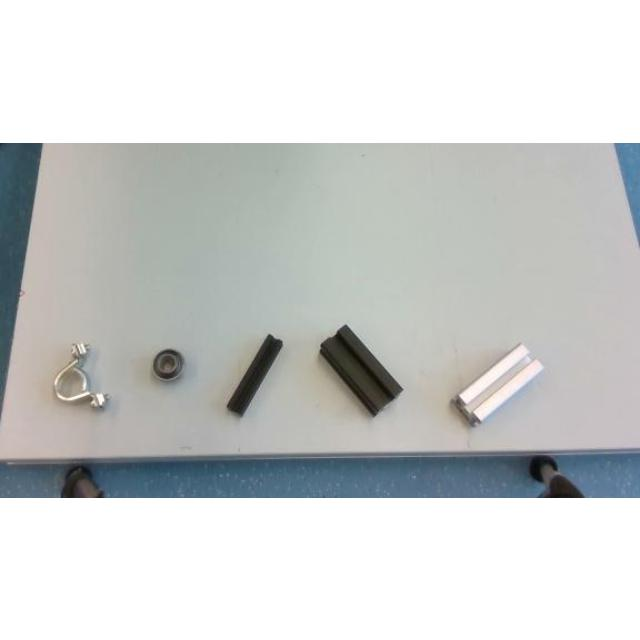Bearing2: (152, 349, 184, 379)
F20_20_B: (227, 333, 281, 415)
Housing: (54, 340, 106, 408)
S40_40_B: (320, 324, 402, 414)
S40_40_G: (453, 342, 543, 424)
